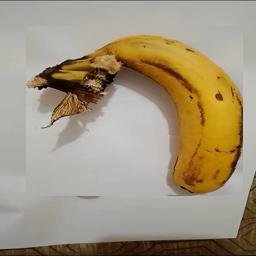Banana Semifresh: (26, 26, 243, 196)
